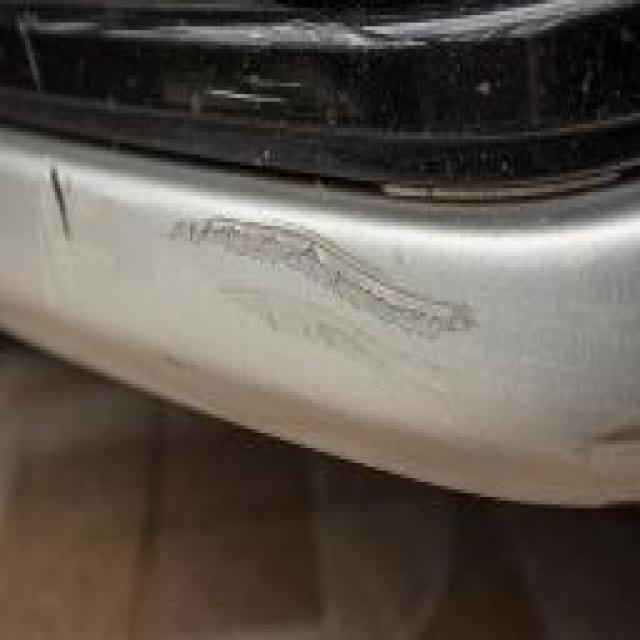Bumper: (2, 136, 545, 456)
